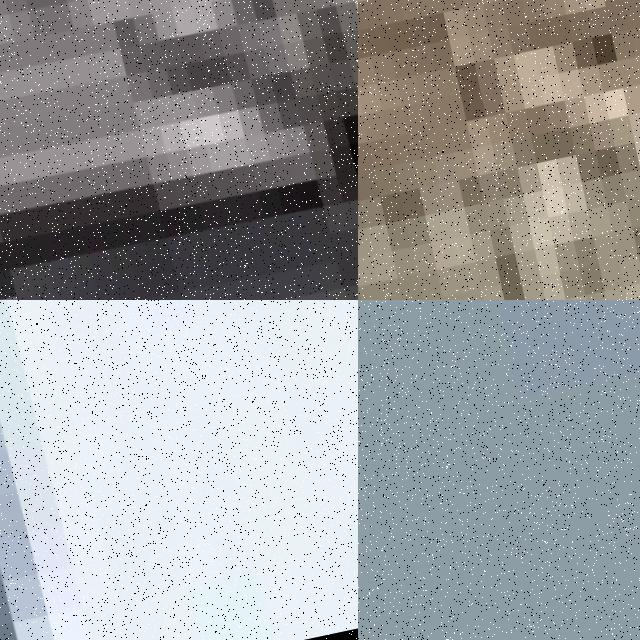0: (0, 0, 358, 300)
drone: (0, 300, 358, 640)
